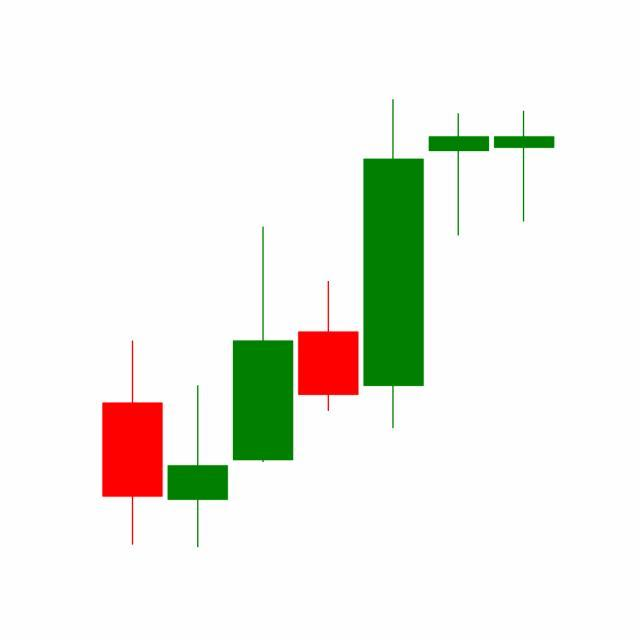Hikkake Pattern: (229, 100, 555, 468)
